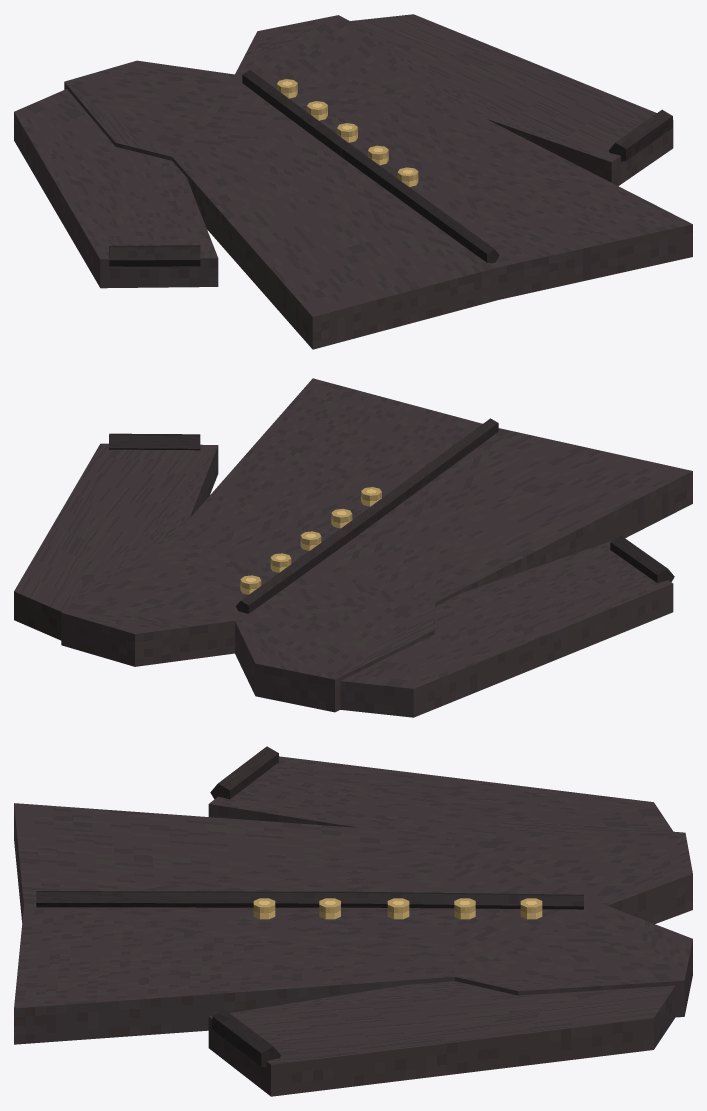
File: trenchcoat_steampunk.glb
3 renders of one model, top to bottom at view 1: azimuth 30°, elevation 25°; view 2: azimuth 150°, elevation 25°; view 3: azimuth 270°, elevation 25°, orthographic. The views are drawn at different scales.
Parts seen in each view (by area): view 1: block_garment body, block_sleeve (×2), block_cuff 0 (×2), block_front closure 1, block_front closure 0; view 2: block_garment body, block_sleeve (×2), block_front closure 1, block_cuff 0 (×2), block_front closure 0; view 3: block_garment body, block_sleeve (×2), block_front closure 1, block_cuff 0 (×2), block_front closure 0.
Part boxes in pixels (left/top/right/bottom): block_garment body: left=64, top=15, right=692, bottom=349; block_sleeve (×2): left=14, top=14, right=673, bottom=288; block_cuff 0 (×2): left=109, top=109, right=672, bottom=266; block_front closure 1: left=342, top=144, right=499, bottom=263; block_front closure 0: left=242, top=70, right=349, bottom=156; block_garment body: left=61, top=378, right=692, bottom=712; block_sleeve (×2): left=14, top=443, right=673, bottom=717; block_front closure 1: left=345, top=418, right=498, bottom=538; block_cuff 0 (×2): left=109, top=433, right=674, bottom=582; block_front closure 0: left=236, top=525, right=353, bottom=613; block_garment body: left=14, top=803, right=692, bottom=1044; block_sleeve (×2): left=208, top=756, right=675, bottom=1096; block_front closure 1: left=36, top=891, right=357, bottom=907; block_cuff 0 (×2): left=210, top=746, right=280, bottom=1067; block_front closure 0: left=357, top=891, right=583, bottom=909.
Size of the model in its own units: 0.8151 by 0.0625 by 0.7558.
1 material, 1 textured.
